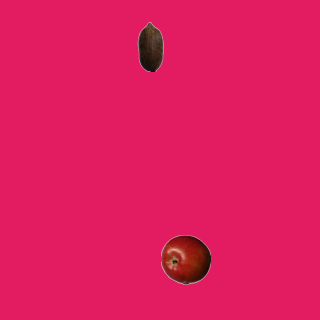Apple Braeburn: (160, 234, 210, 284)
Nut Pecan: (125, 21, 175, 71)
